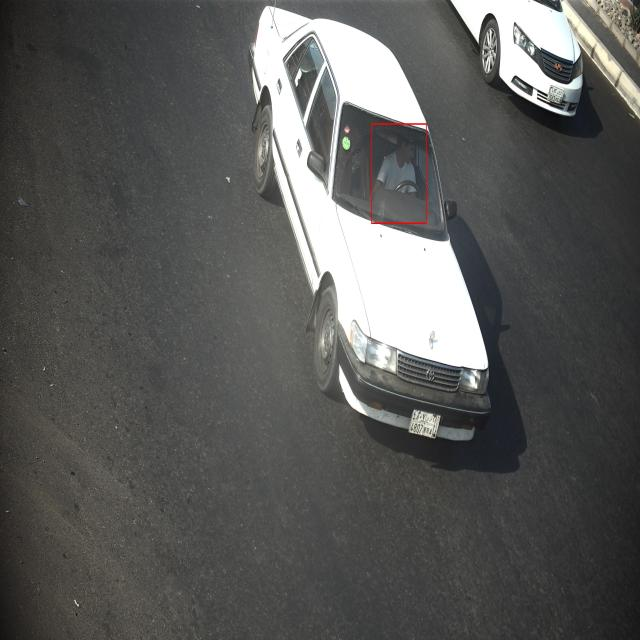windshield: (334, 96, 451, 246)
